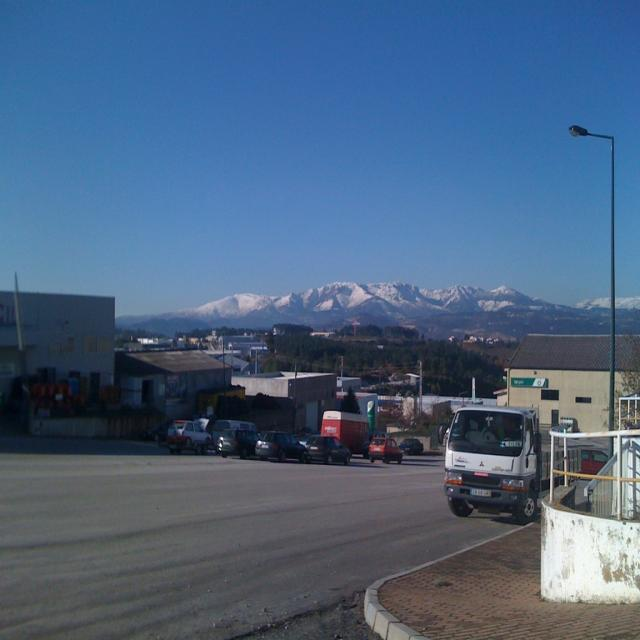car: (444, 403, 543, 526), (211, 428, 262, 459), (163, 419, 213, 450), (251, 427, 301, 458), (301, 435, 350, 463), (364, 435, 406, 463), (578, 445, 608, 477), (394, 436, 423, 454)
